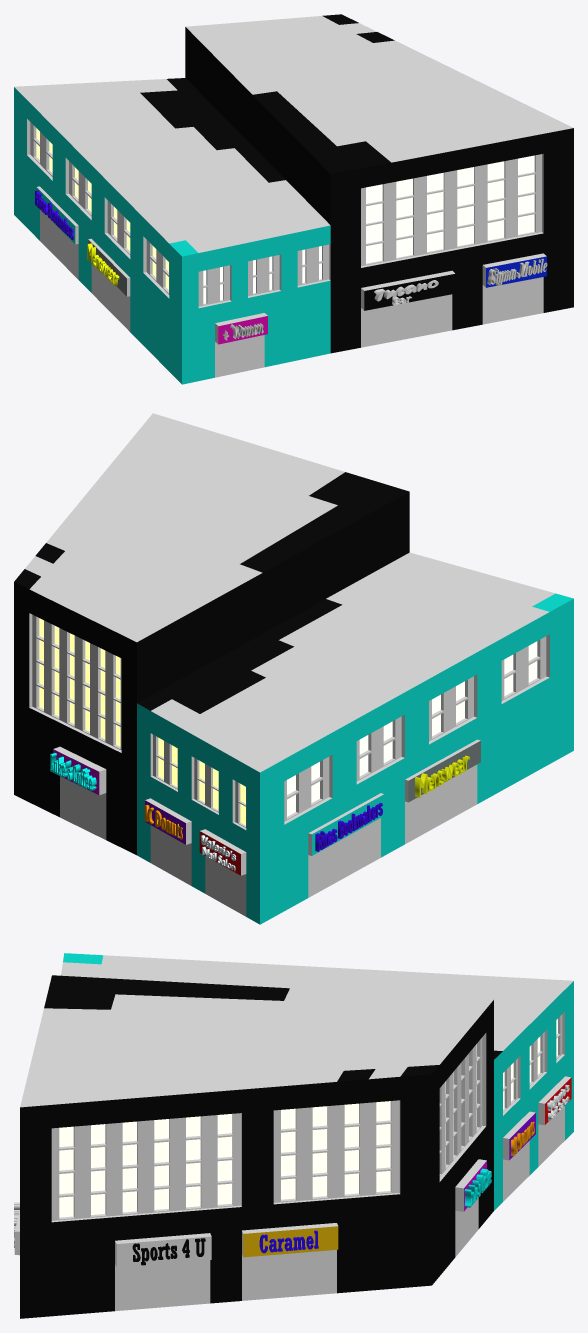
Rendered from las_rinas_shopping_village.fbx.
3 views of the same model, one above another, from view 1: azimuth 30°, elevation 25°; view 2: azimuth 150°, elevation 25°; view 3: azimuth 270°, elevation 25° (orthographic). The views are drawn at different scales.
Parts seen in each view (by area): view 1: Plane, Text.002, Text.008, Text.001, Text.009; view 2: Plane, Text.008, Text.005, Text.009; view 3: Plane, Text.003, Text.004, Text.005.
Boxes of the visible parts, x1,y1,x2,y2 form: Plane: [14, 14, 573, 384]; Text.002: [487, 258, 547, 287]; Text.008: [35, 190, 73, 239]; Text.001: [374, 280, 438, 301]; Text.009: [87, 243, 119, 285]; Plane: [14, 413, 573, 924]; Text.008: [315, 802, 382, 851]; Text.005: [50, 752, 96, 791]; Text.009: [415, 755, 469, 797]; Plane: [14, 953, 573, 1318]; Text.003: [132, 1238, 205, 1265]; Text.004: [259, 1230, 318, 1253]; Text.005: [464, 1168, 491, 1207].
Size of the model in its own units: 381 by 175 by 420.
